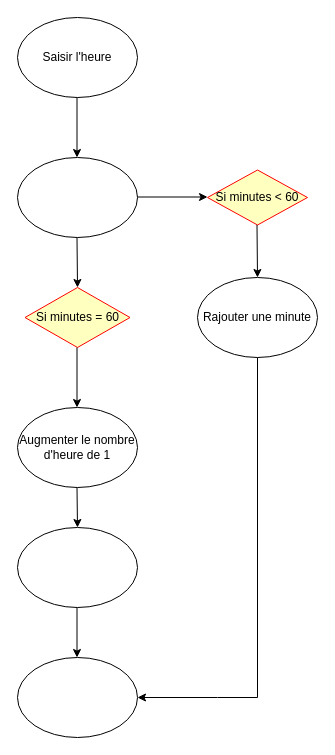
The diagram is 335 pixels wide and 755 high, and some of its shapes have lost their labels. Here are the shapes that lost their labels. From the top down, the centre of each, then its label:
(77,197): Saisir les minutes
(77,567): Remettre le nombre de minutes a 0 puis rajouter 1 minute
(77,697): Fin de l'algorithme
